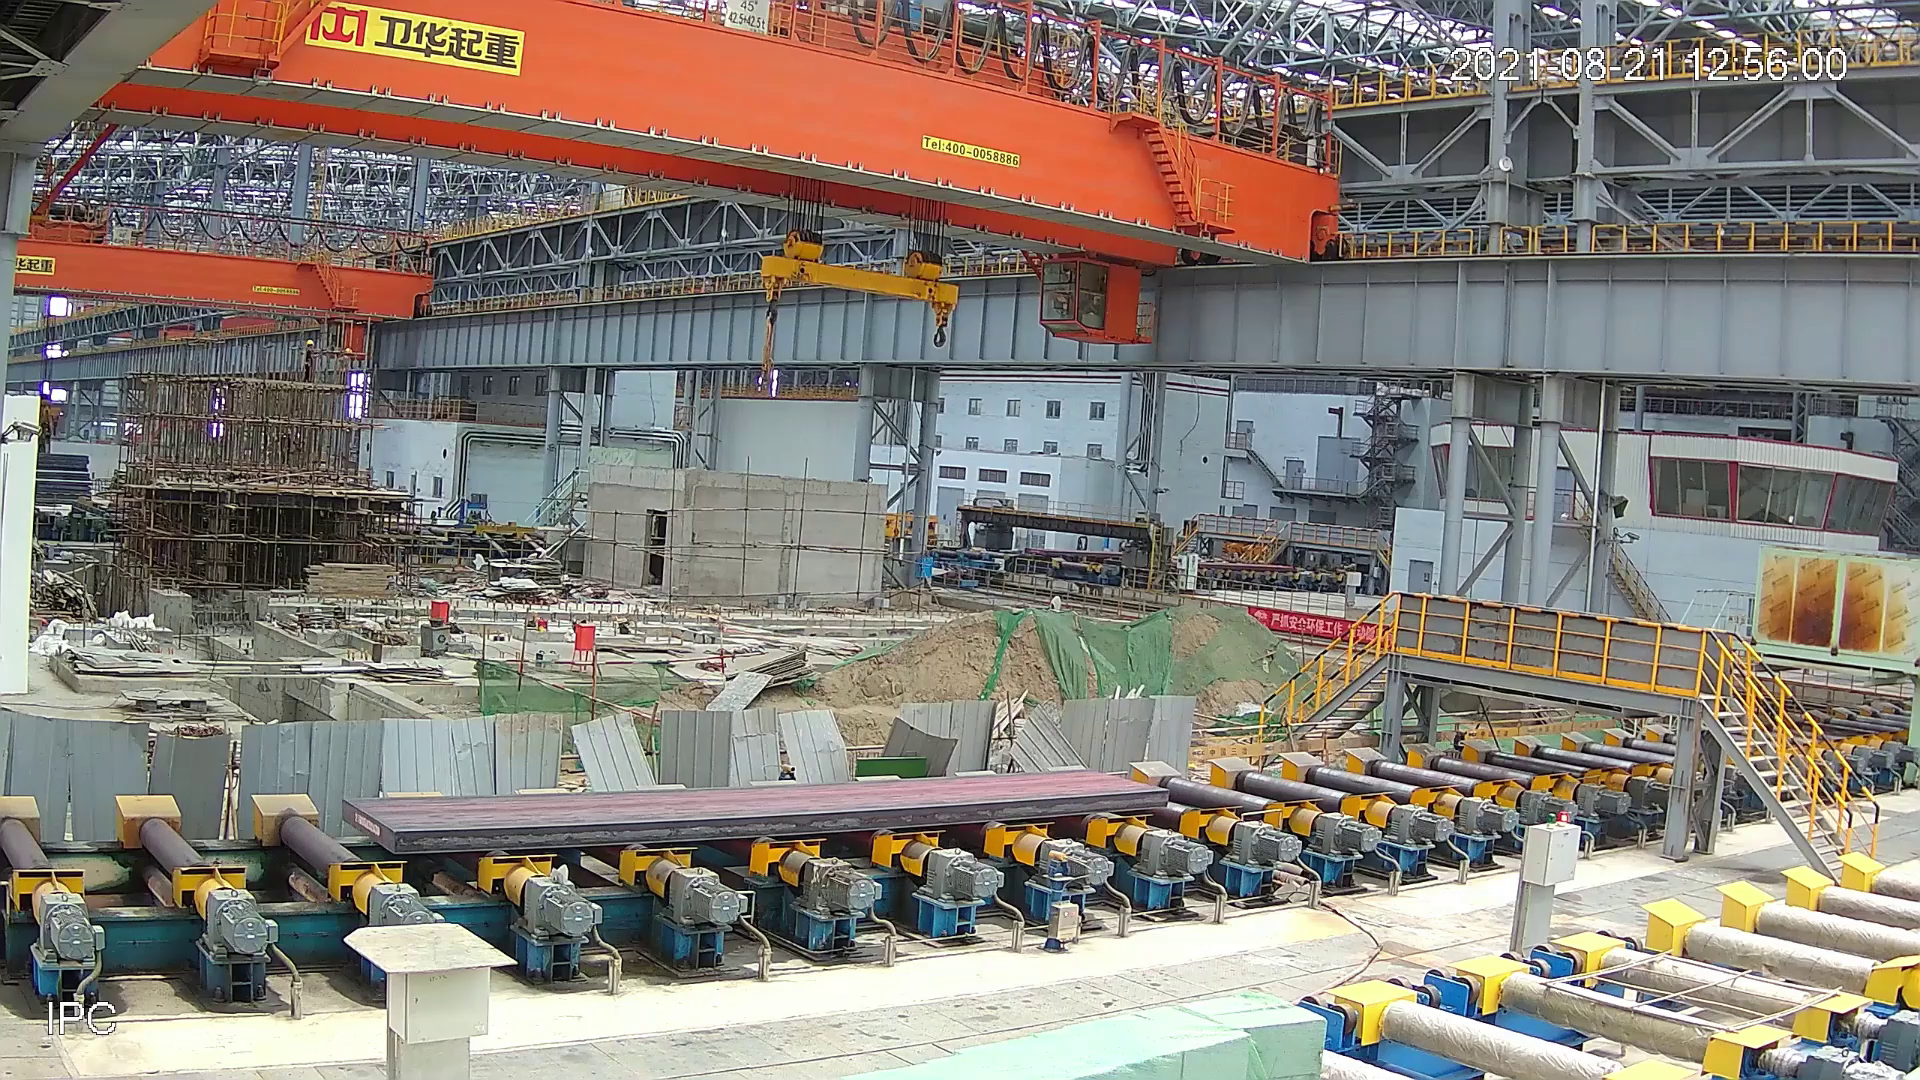slab: (340, 767, 1174, 855)
